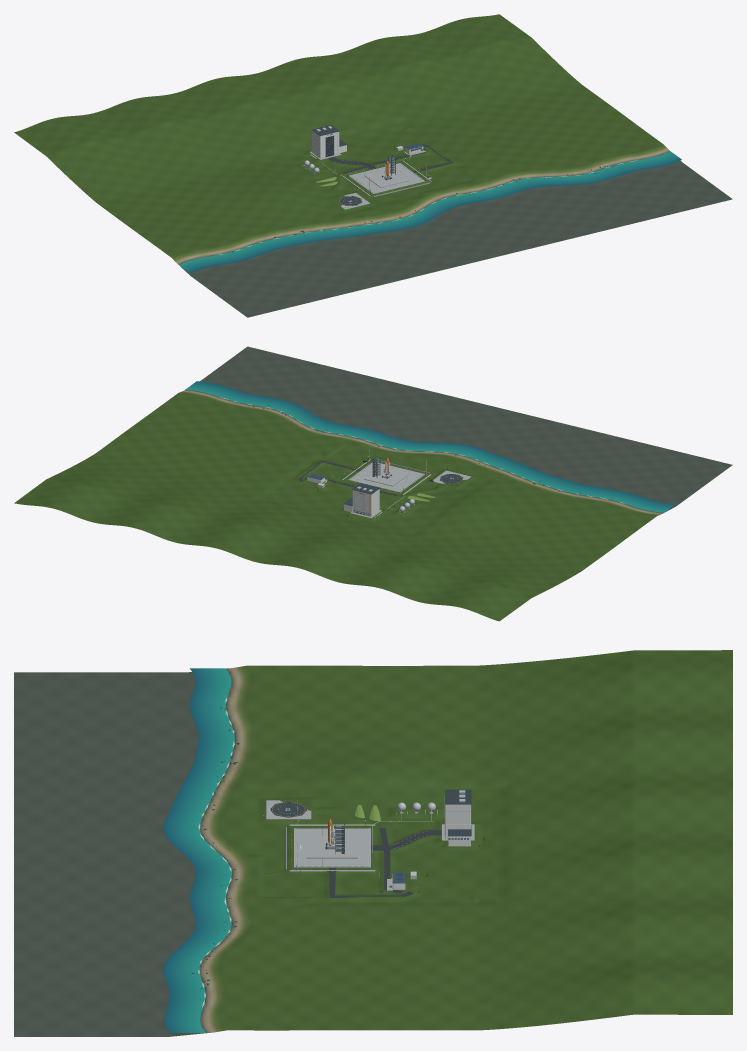
Rendered from tanegashima-m03.glb.
3 renders of one model, top to bottom at view 1: azimuth 30°, elevation 25°; view 2: azimuth 150°, elevation 25°; view 3: azimuth 270°, elevation 25°, orthographic. The views are drawn at different scales.
Parts seen in each view (by area): view 1: M03 | Site | M02 | Continuous coastal vegetation and beach, M03 | Site | M02 | Turquoise to deep shelf, M03 | Site | MAT_Concrete_WarmGrey, M03 | Site | M02 | Warm ceramic, M03 | Site | M02 | Asphalt, M03 | Site | M02 | Charcoal structure; view 2: M03 | Site | M02 | Continuous coastal vegetation and beach, M03 | Site | M02 | Turquoise to deep shelf, M03 | Site | MAT_Concrete_WarmGrey, M03 | Site | M02 | Warm ceramic, M03 | Site | M02 | Charcoal structure; view 3: M03 | Site | M02 | Continuous coastal vegetation and beach, M03 | Site | M02 | Turquoise to deep shelf, M03 | Site | MAT_Concrete_WarmGrey, M03 | Site | M02 | Asphalt, M03 | Site | M02 | Warm ceramic, M03 | Site | M02 | Charcoal structure, M03 | Site | M02 | Cast concrete.
Part boxes in pixels (x1,y1,x2,y2): M03 | Site | M02 | Continuous coastal vegetation and beach: (14, 14, 732, 317); M03 | Site | M02 | Turquoise to deep shelf: (179, 151, 681, 273); M03 | Site | MAT_Concrete_WarmGrey: (348, 150, 425, 193); M03 | Site | M02 | Warm ceramic: (303, 130, 430, 205); M03 | Site | M02 | Asphalt: (328, 144, 453, 197); M03 | Site | M02 | Charcoal structure: (311, 125, 419, 205); M03 | Site | M02 | Continuous coastal vegetation and beach: (14, 346, 732, 621); M03 | Site | M02 | Turquoise to deep shelf: (185, 381, 675, 512); M03 | Site | MAT_Concrete_WarmGrey: (325, 462, 424, 492); M03 | Site | M02 | Warm ceramic: (342, 449, 458, 516); M03 | Site | M02 | Charcoal structure: (343, 468, 463, 515); M03 | Site | M02 | Continuous coastal vegetation and beach: (14, 650, 732, 1036); M03 | Site | M02 | Turquoise to deep shelf: (163, 668, 234, 1032); M03 | Site | MAT_Concrete_WarmGrey: (294, 828, 392, 890); M03 | Site | M02 | Asphalt: (264, 823, 441, 897); M03 | Site | M02 | Warm ceramic: (263, 802, 470, 889); M03 | Site | M02 | Charcoal structure: (270, 789, 471, 892); M03 | Site | M02 | Cast concrete: (266, 800, 474, 871).
Size of what is drawn, in the model's own units: 1680 by 94 by 1400.
Materials: 55 (15 with a texture image).
